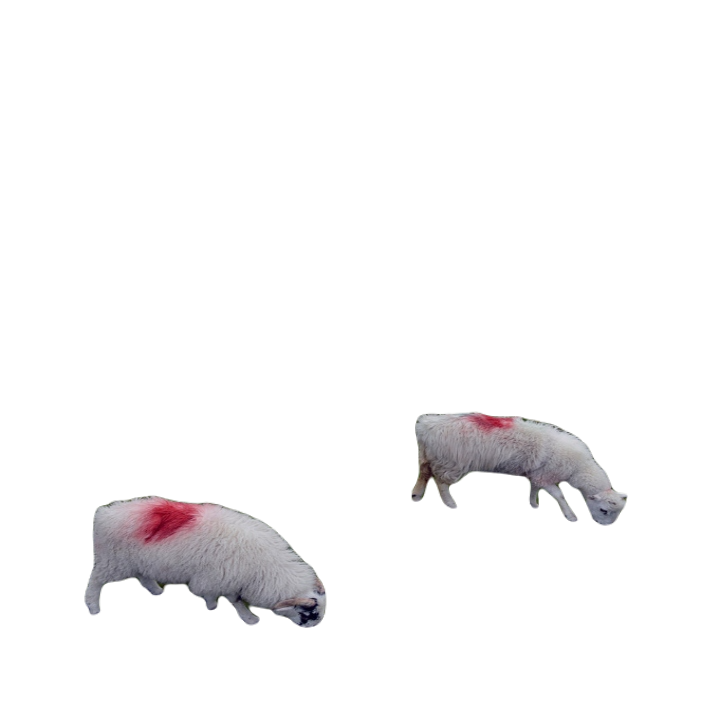Sheep: (81, 490, 332, 635), (407, 408, 632, 529)
